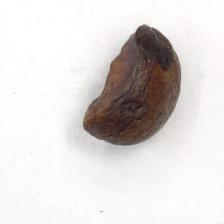NG: (83, 23, 141, 127)
